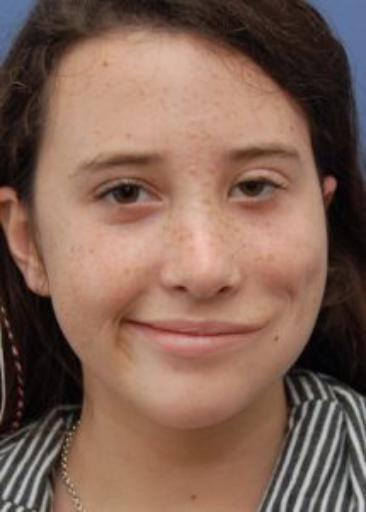left_eye: (227, 176, 285, 204)
left_lip_corner: (257, 318, 271, 336)
right_eye: (95, 181, 162, 211)
right_lip_corner: (117, 312, 137, 327)
